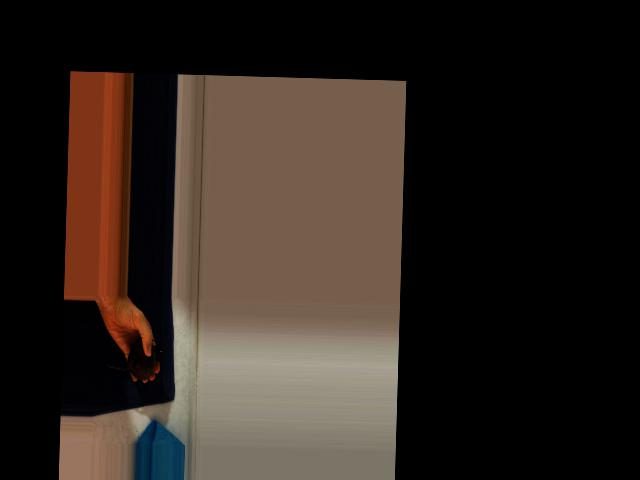beet: (104, 338, 162, 380)
